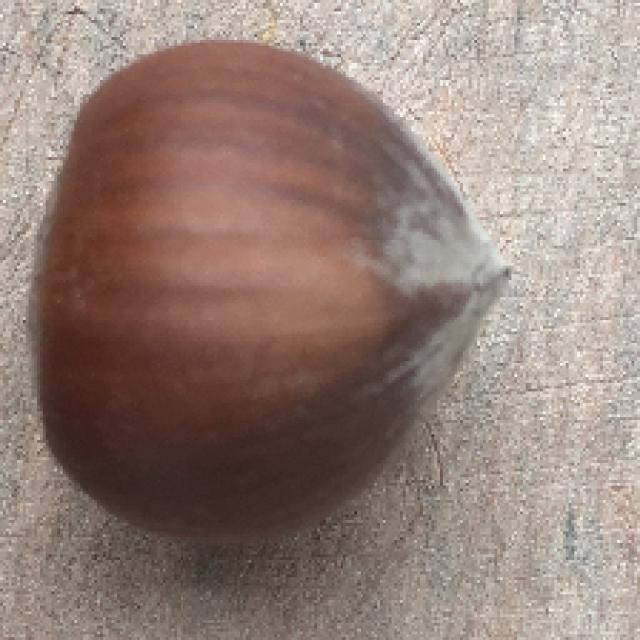qualityHazelnut: (40, 36, 505, 534)
